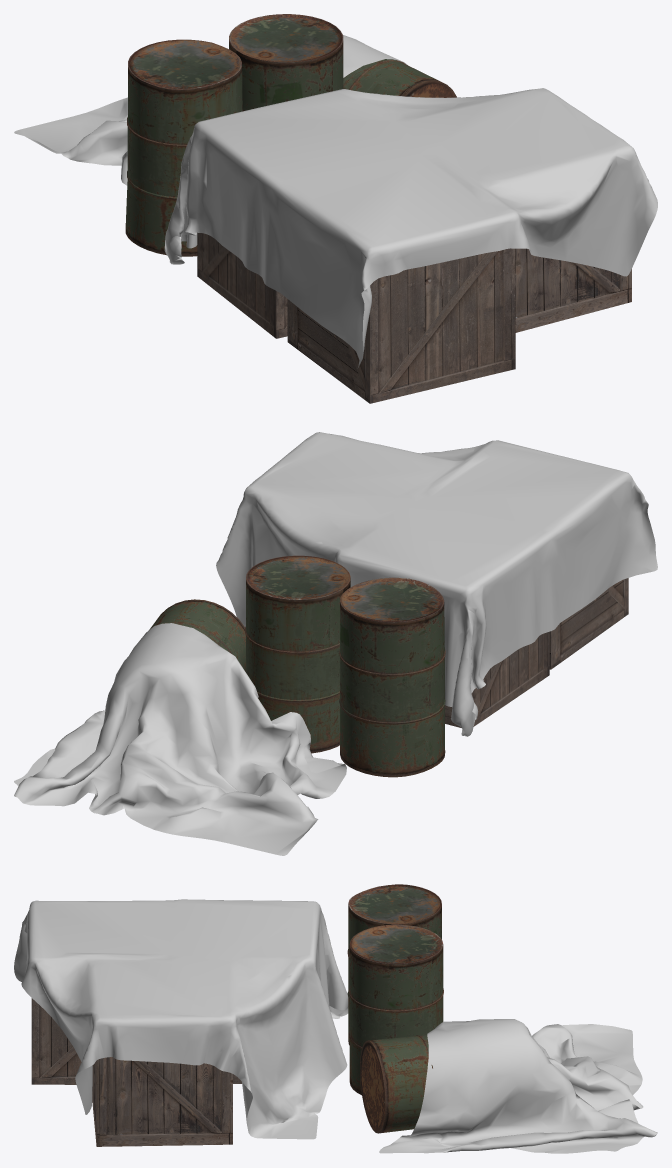
The picture shows the model from 3 angles, top to bottom: view 1: azimuth 30°, elevation 25°; view 2: azimuth 150°, elevation 25°; view 3: azimuth 270°, elevation 25°; orthographic projection. The views are drawn at different scales.
Visible parts, largest first — view 1: Cloth, Crate, Barrel.002, Barrel, Crate.002, Cloth2, Crate.001, Barrel.001; view 2: Cloth, Cloth2, Barrel.002, Barrel, Crate.001, Crate, Barrel.001; view 3: Cloth, Cloth2, Crate.002, Barrel, Barrel.001, Barrel.002, Crate.
Part boxes in pixels (x1,y1,x2,y2): Cloth: (164, 88, 657, 368); Crate: (287, 248, 515, 403); Barrel.002: (125, 39, 242, 256); Barrel: (229, 14, 343, 111); Crate.002: (515, 248, 631, 332); Cloth2: (14, 35, 407, 185); Crate.001: (197, 232, 287, 338); Barrel.001: (343, 59, 456, 97); Cloth: (216, 432, 657, 736); Cloth2: (14, 623, 346, 855); Barrel.002: (339, 577, 445, 777); Barrel: (245, 555, 350, 753); Crate.001: (445, 631, 549, 727); Crate: (549, 578, 628, 669); Barrel.001: (145, 599, 245, 671); Cloth: (14, 899, 348, 1139); Cloth2: (379, 1019, 657, 1153); Crate.002: (92, 1057, 232, 1146); Barrel: (349, 924, 443, 1095); Barrel.001: (360, 1034, 432, 1133); Barrel.002: (347, 884, 441, 1045); Crate: (31, 998, 81, 1084).
Bounding box in the file's own units: 2.26 × 1.07 × 4.5.
